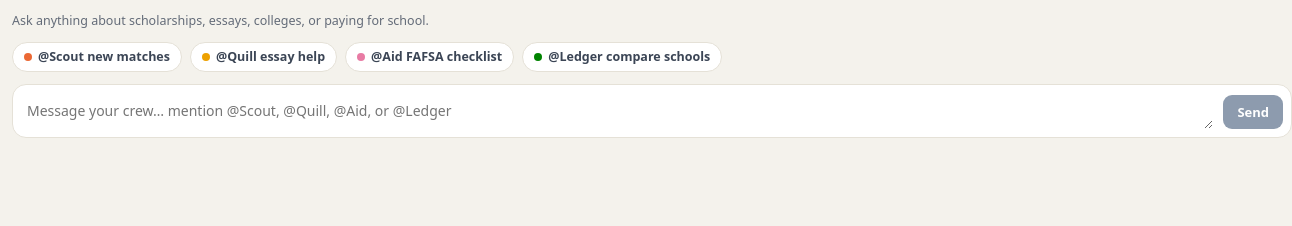
Test: Thread › shows the allowance message and keeps the draft (CR-10)
This screenshot has width=1292, height=226.
Type "Plan my week" into the text box labelled "Message your crew". click: (620,111)
box: [27,93,1213,129]
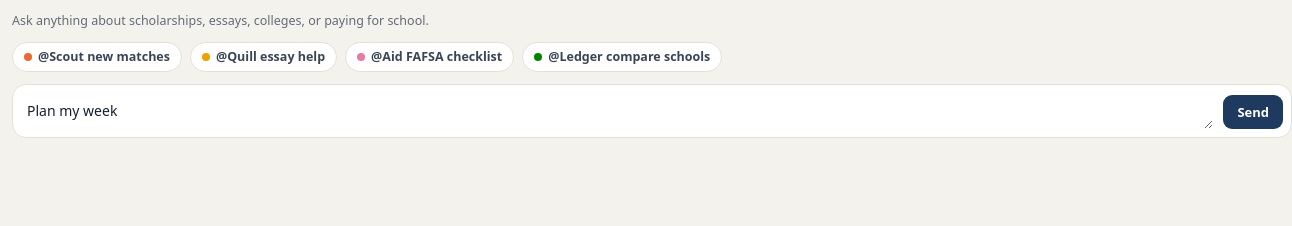
Click the button "Send". click: (1253,112)
box: [1223,95,1283,129]
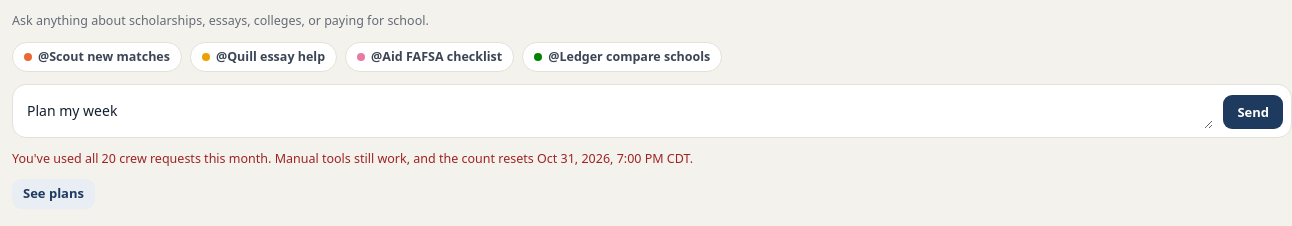
Now the text "You've used all 20 crew requests this month. Manual tools still work, and the count resets Oct 31, 2026, 7:00 PM CDT." is shown, box [12,150,693,167]
